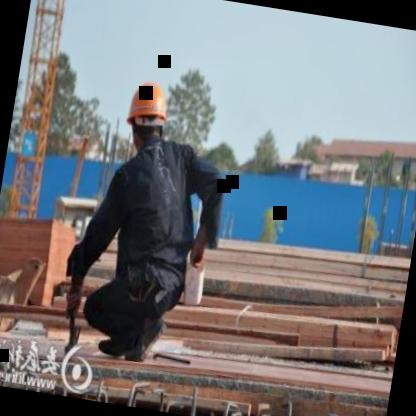helmet: (119, 74, 178, 154)
